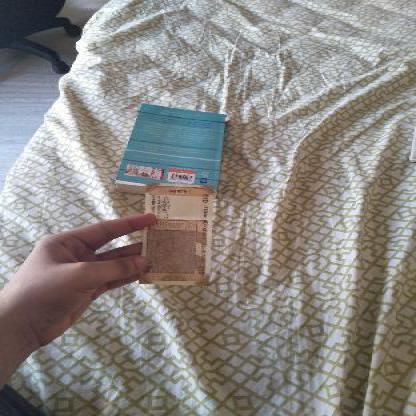New10Back: (145, 188, 210, 282)
